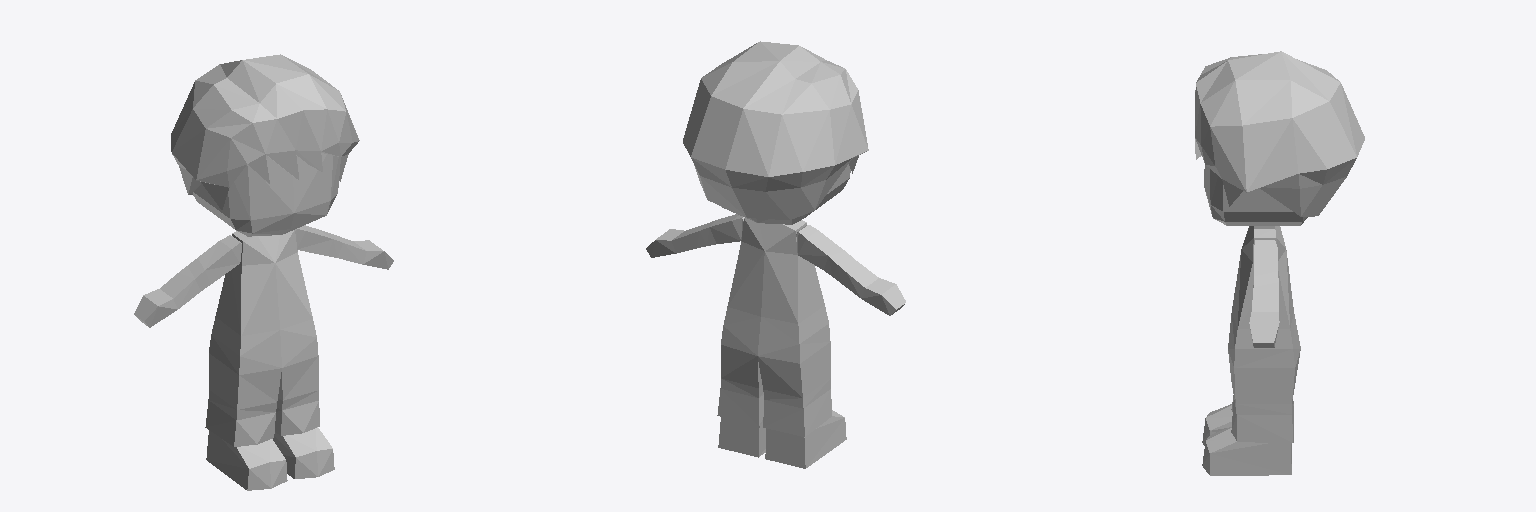
File: Default Male (A).obj
3 renders of one model, left to right at view 1: azimuth 30°, elevation 25°; view 2: azimuth 150°, elevation 25°; view 3: azimuth 270°, elevation 25°, orthographic.
Visible parts, largest first — view 1: polygon1.089, polygon0.092, polygon2.063, polygon1.088, polygon0.091; view 2: polygon1.089, polygon0.092, polygon2.063, polygon1.088, polygon0.091; view 3: polygon1.089, polygon2.063, polygon0.092, polygon1.088, polygon0.091.
Boxes of the visible parts, x1=… form: polygon1.089: x1=171, y1=54, x2=359, y2=209; polygon0.092: x1=134, y1=225, x2=393, y2=335; polygon2.063: x1=205, y1=390, x2=334, y2=490; polygon1.088: x1=209, y1=317, x2=318, y2=409; polygon0.091: x1=193, y1=153, x2=340, y2=236; polygon1.089: x1=683, y1=41, x2=868, y2=219; polygon0.092: x1=646, y1=214, x2=905, y2=323; polygon2.063: x1=717, y1=378, x2=846, y2=468; polygon1.088: x1=721, y1=306, x2=830, y2=397; polygon0.091: x1=721, y1=164, x2=850, y2=224; polygon1.089: x1=1195, y1=51, x2=1364, y2=216; polygon2.063: x1=1202, y1=393, x2=1293, y2=475; polygon0.092: x1=1232, y1=226, x2=1293, y2=347; polygon1.088: x1=1228, y1=313, x2=1300, y2=403; polygon0.091: x1=1204, y1=165, x2=1307, y2=225.
Bounding box in the file's own units: 3.02 × 4.58 × 1.79.